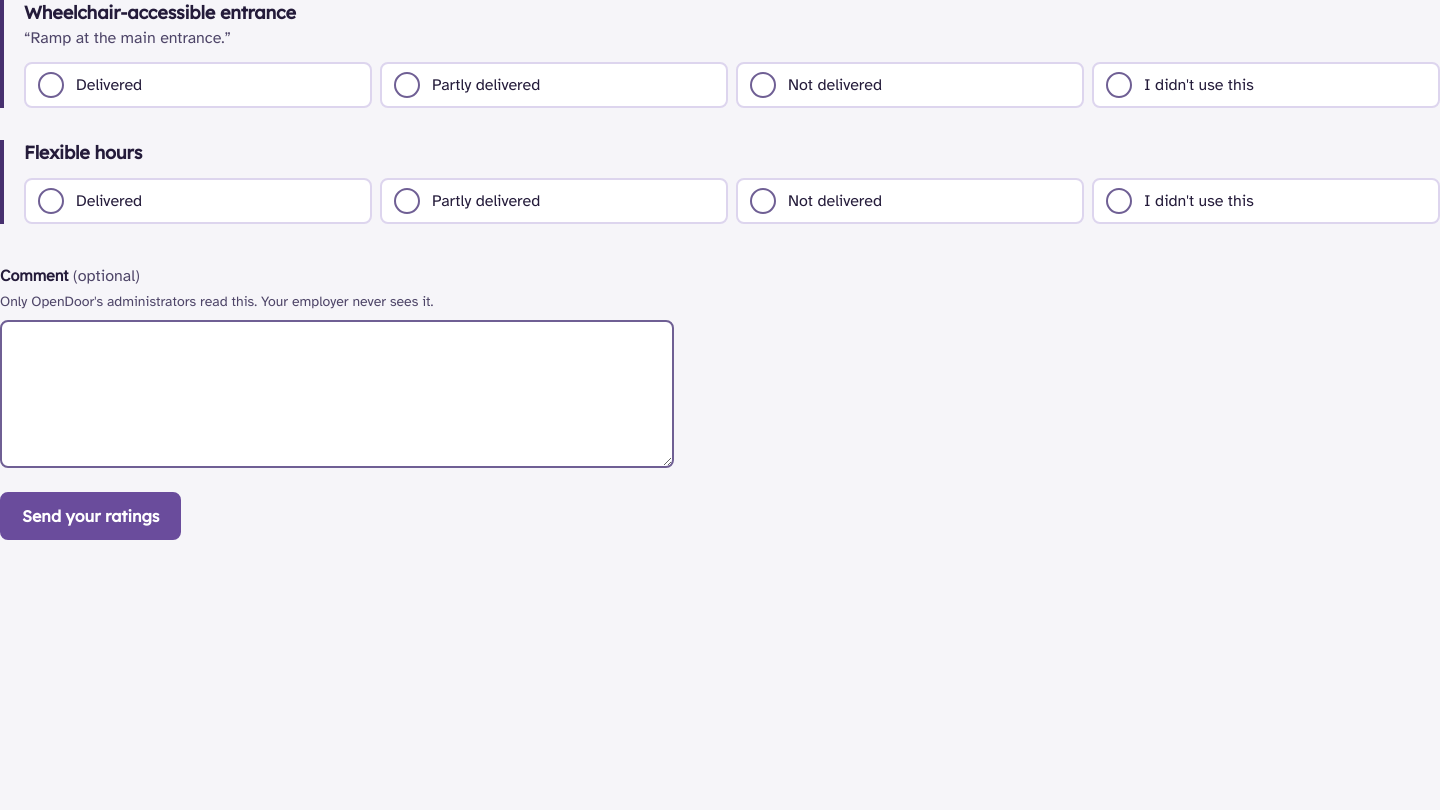
FeedbackForm › keeps the dialog open with the reason when sending fails
The image size is (1440, 810).
Click the radio button labelled "Delivered" below "Ramp at the main entrance.": (51, 85) [38,72,64,98]
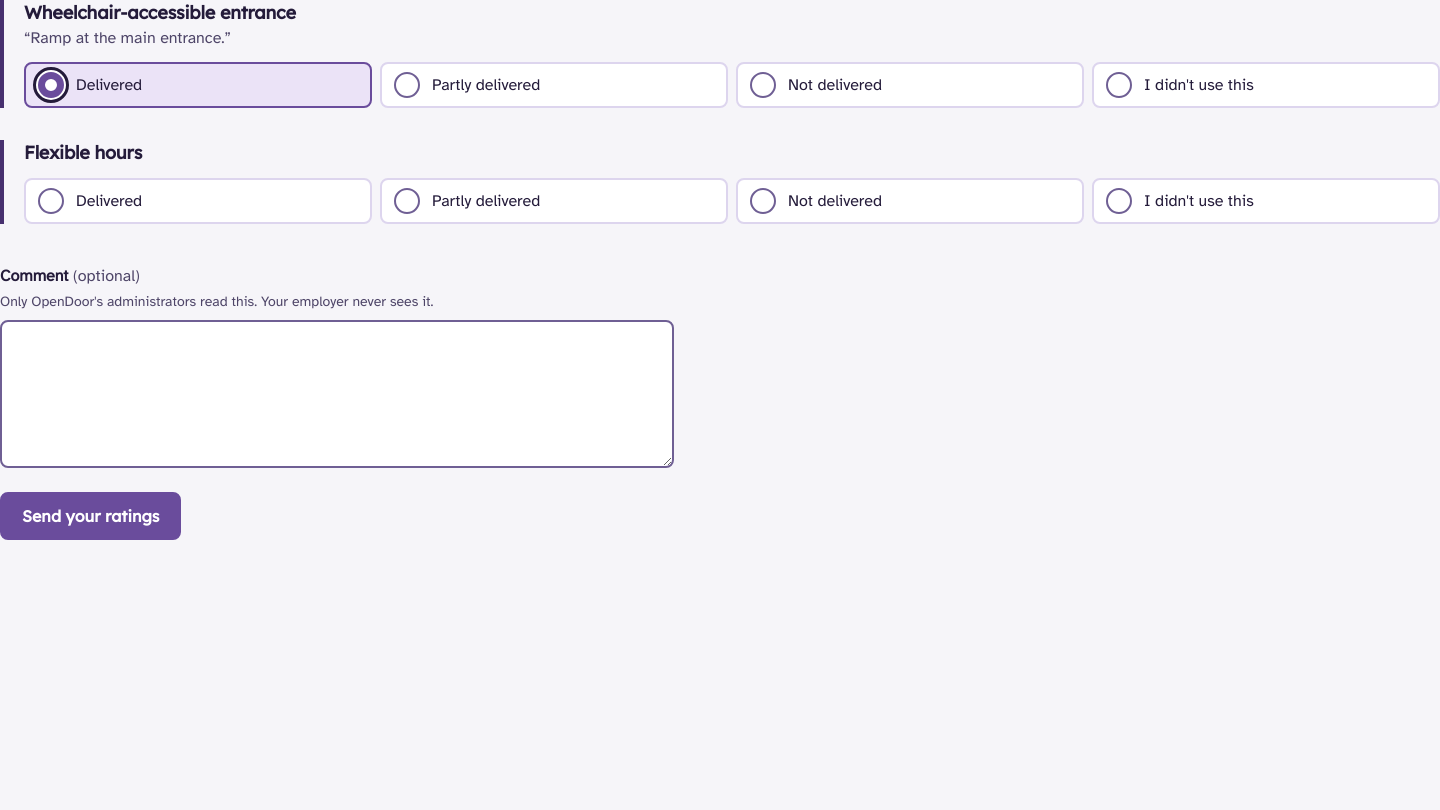
Click the radio button labelled "Delivered" below "Flexible hours": (51, 201) [38,188,64,214]
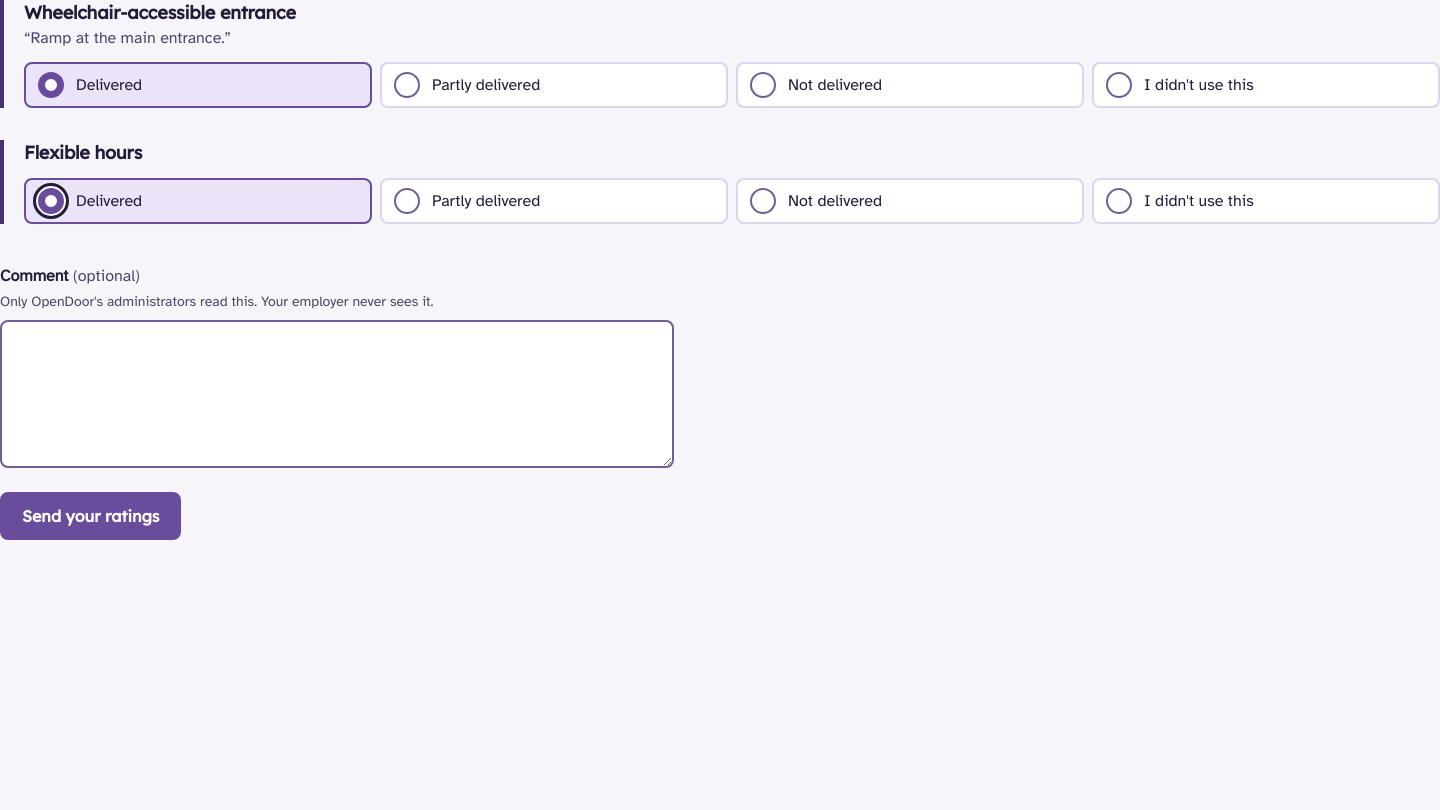
Click the button "Send your ratings": (91, 516) [0,492,181,540]
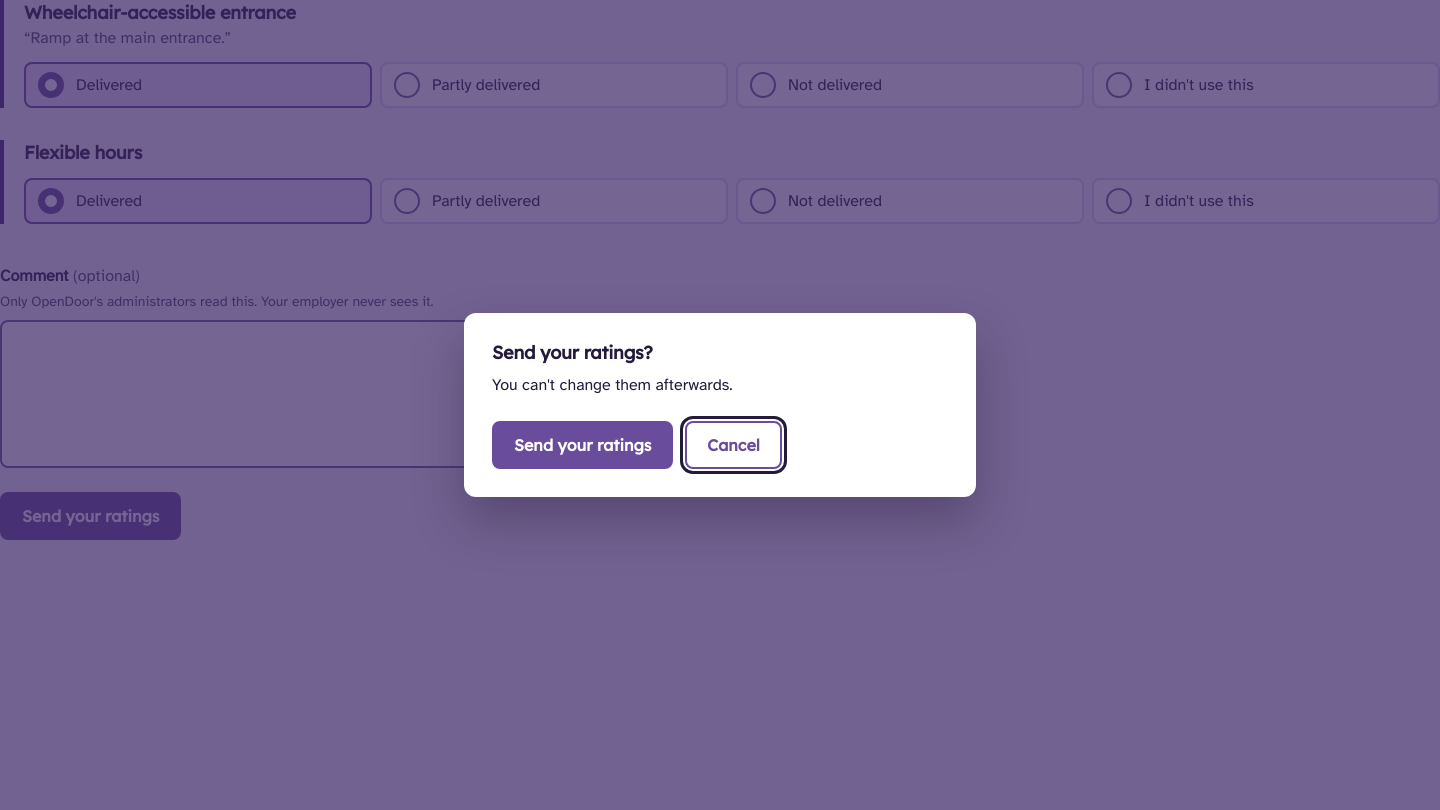
Click the button "Send your ratings": (583, 445) [492,421,673,469]
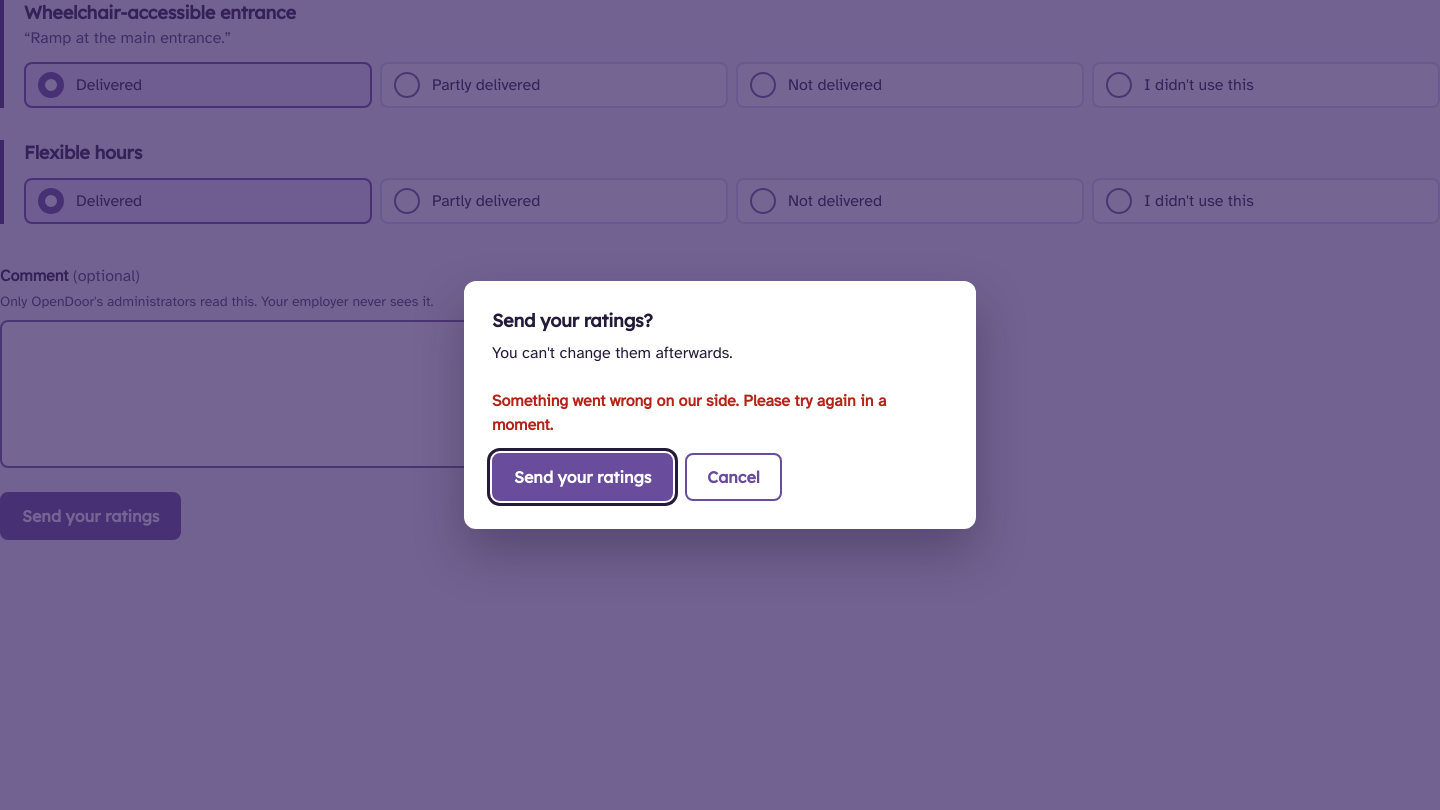
Expected: the message shows "Something went wrong on our side.", [492,391,886,435]
